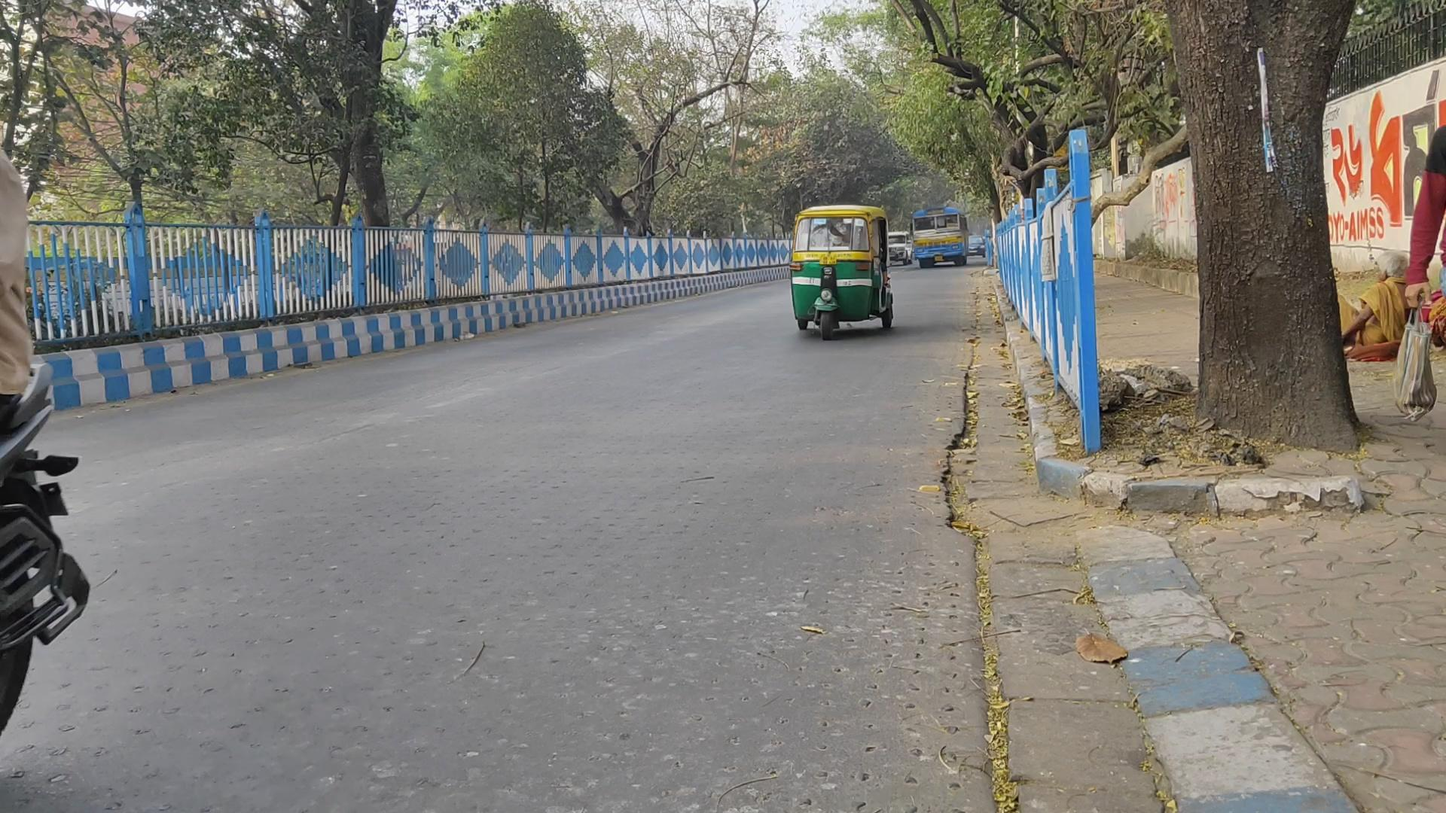Auto: (789, 204, 894, 342)
Bus: (909, 206, 969, 267)
car: (887, 229, 912, 266), (968, 234, 987, 259)
